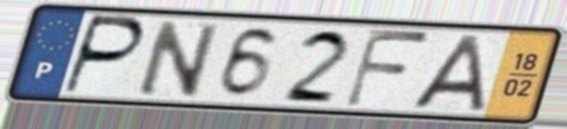2: (276, 27, 356, 106)
6: (214, 25, 282, 101)
A: (408, 33, 487, 113)
F: (340, 25, 435, 111)
N: (134, 17, 223, 99)
P: (58, 12, 149, 98)
